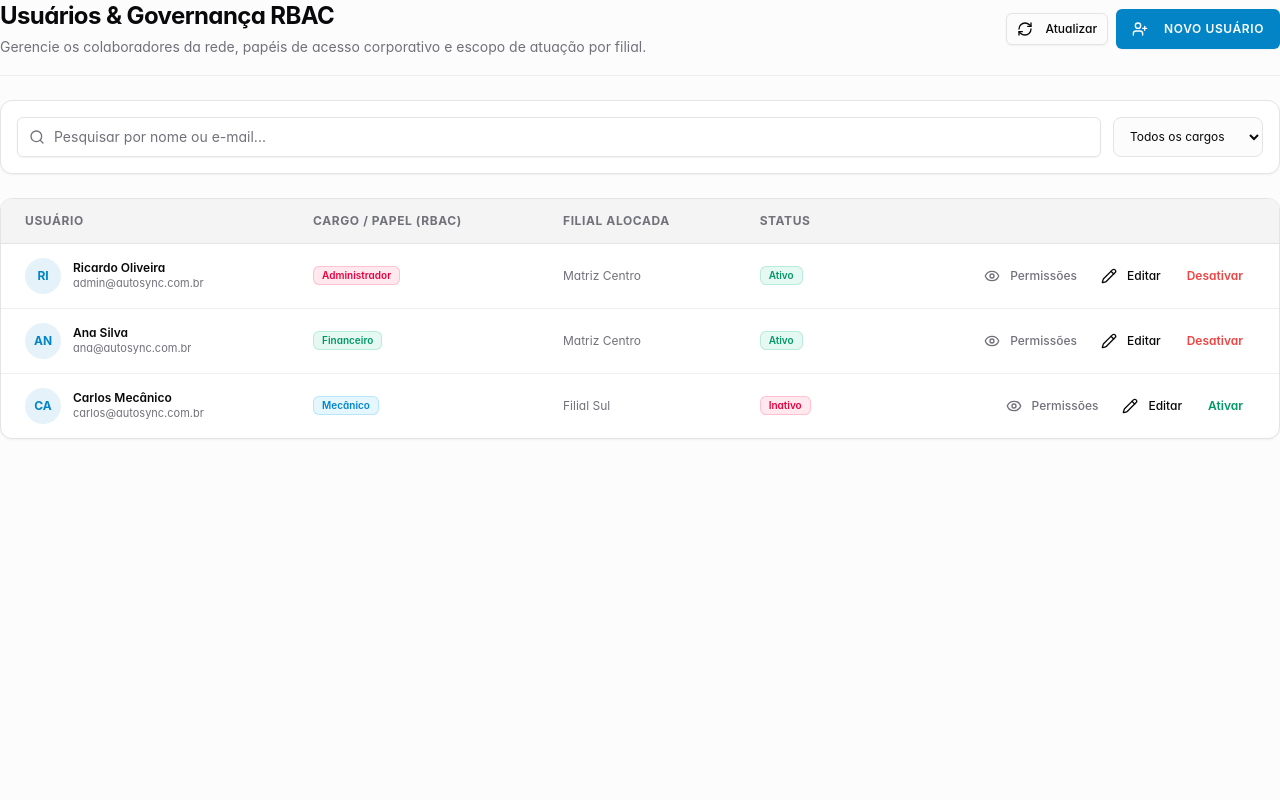
Test: Users & RBAC Module (Integrated Management) › 9. should display self-deactivation warning when logged user deactivates own account
The image size is (1280, 800).
Expected: the text "Ricardo Oliveira" is shown, [73,260,165,275]
Step 1. Click the button "Desativar" in the row of "Ricardo Oliveira" → [1215, 276], box [1175,260,1255,292]
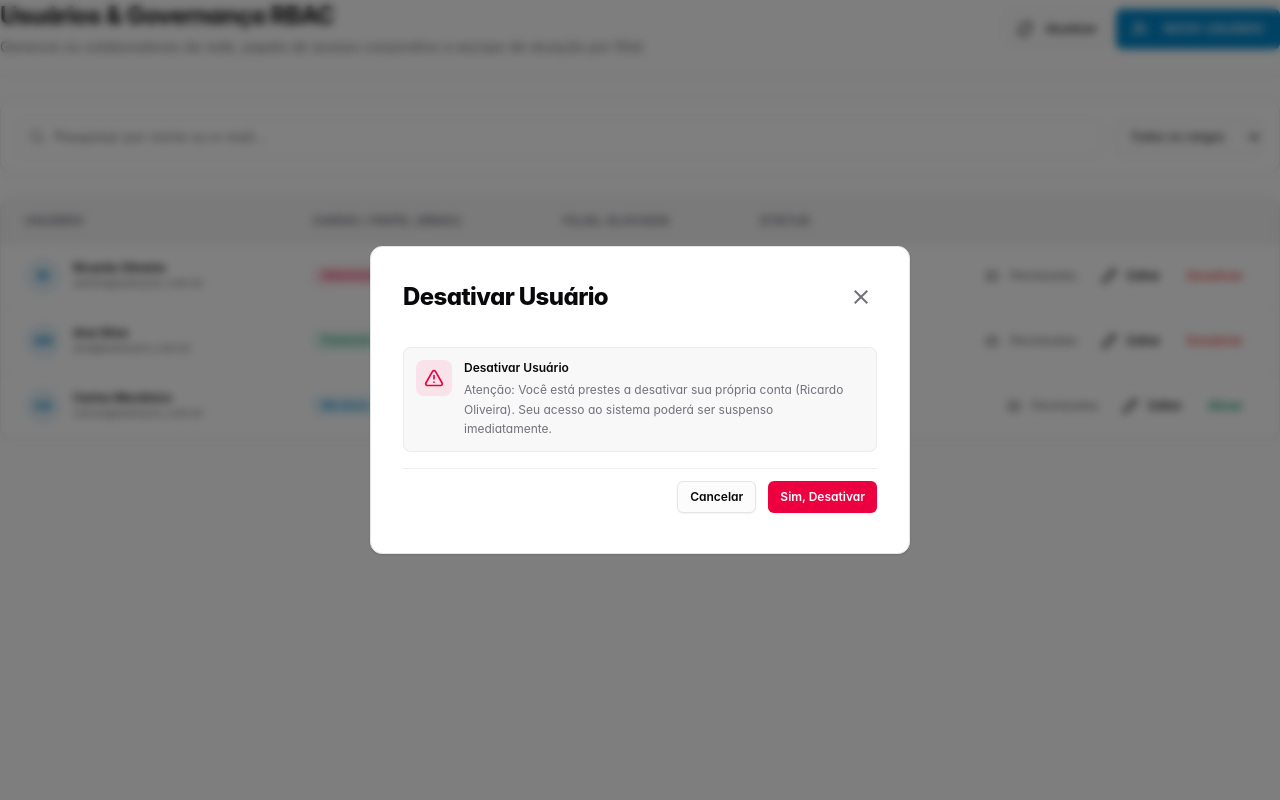
Now the text "Você está prestes a desativar sua própria conta" is shown, box [464,382,843,436]
